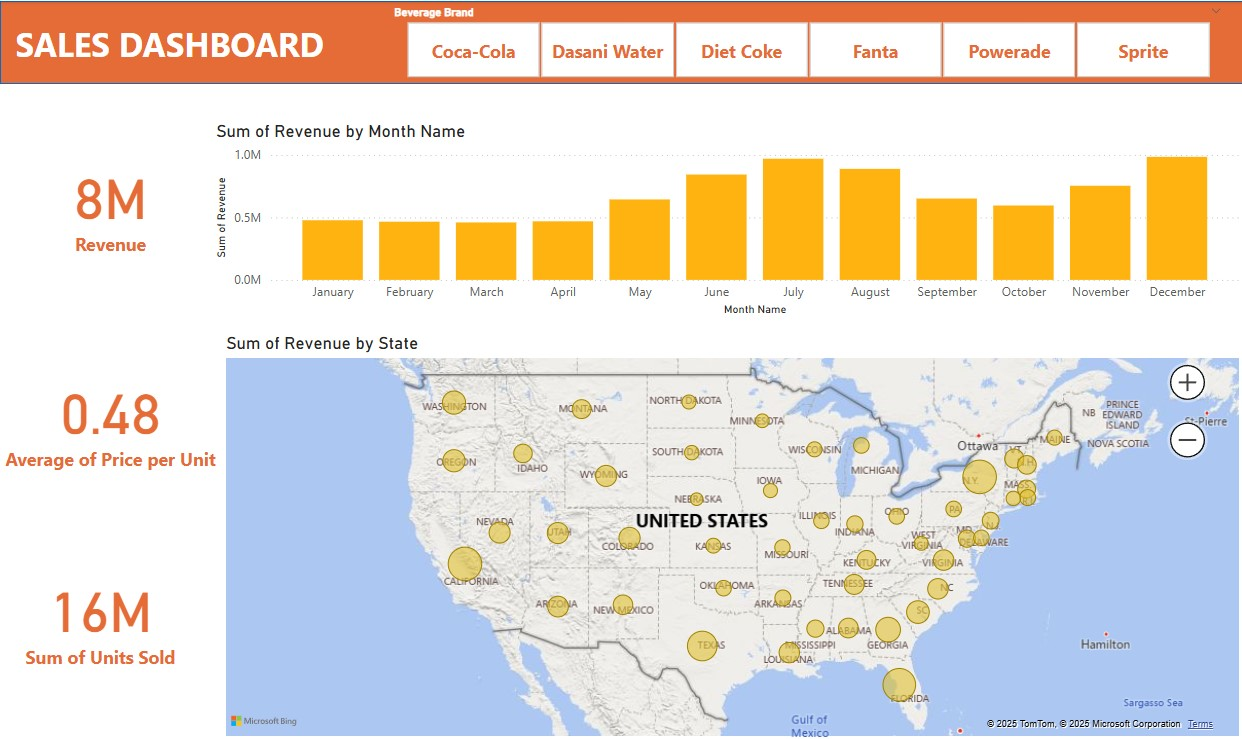

The dashboard page shown, as its layout file describes it:
{"tool":"powerbi","page":{"name":"Page 1","canvas":[1280,720],"ordinal":0},"visuals":[{"type":"shape","box":[9.7,0,1210,80.7],"z":0},{"type":"card","fields":{"Values":["Sum(Data.Revenue)"]},"box":[9.7,101.2,215,192.6],"z":1000},{"type":"card","fields":{"Values":["Avg(Data.Price per Unit)"]},"box":[9.7,310.3,215,192.6],"z":2000},{"type":"card","fields":{"Values":["Sum(Data.Units Sold)"]},"box":[0,502.9,215,192.6],"z":3000},{"type":"columnChart","fields":{"Category":["Data.Month Name"],"Y":["Sum(Data.Revenue)"]},"box":[215,116.7,1004.7,193.6],"z":4000},{"type":"map","fields":{"Size":["Sum(Data.Revenue)"],"Category":["Data.State"]},"box":[224.7,322.9,995,373.5],"z":5000},{"type":"slicer","fields":{"Values":["Data.Beverage Brand"]},"box":[380.3,0,829.7,80.7],"z":5001}]}

Visuals, with their boxes on the page's 1280x720 design canvas (x1, y1, x2, y2). These are canvas units, not pixel positions in the 1242x739 screenshot, which may show the page scaled, cropped or inside an application window:
shape: Rect(10, 0, 1220, 81)
card - Sum(Data.Revenue): Rect(10, 101, 225, 294)
card - Avg(Data.Price per Unit): Rect(10, 310, 225, 503)
card - Sum(Data.Units Sold): Rect(0, 503, 215, 696)
columnChart - Data.Month Name x Sum(Data.Revenue): Rect(215, 117, 1220, 310)
map - Sum(Data.Revenue) x Data.State: Rect(225, 323, 1220, 696)
slicer - Data.Beverage Brand: Rect(380, 0, 1210, 81)
